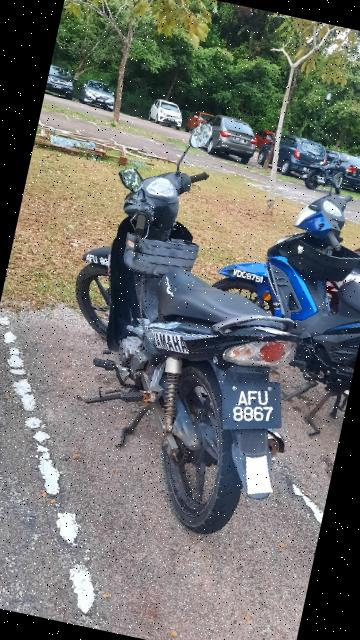License_Plate: (206, 367, 295, 448)
motorcycle: (25, 114, 349, 549)
